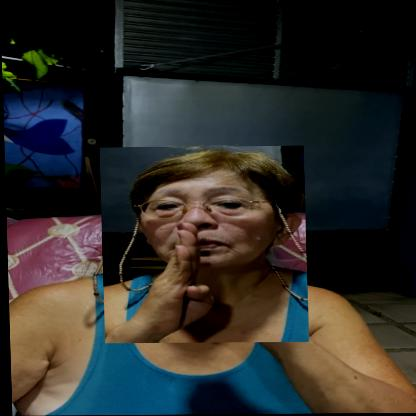Talk: (99, 146, 308, 343)
